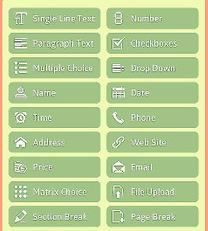button: (105, 202, 203, 227), (7, 55, 101, 79), (7, 80, 101, 104), (7, 155, 101, 179), (105, 31, 199, 55), (105, 55, 199, 79), (106, 80, 200, 104), (105, 105, 199, 129), (8, 130, 101, 154), (8, 204, 101, 228), (7, 179, 102, 202), (8, 32, 102, 55), (105, 155, 199, 178), (7, 7, 100, 30), (105, 7, 198, 30), (7, 106, 101, 128), (105, 130, 199, 152), (106, 179, 198, 201)
